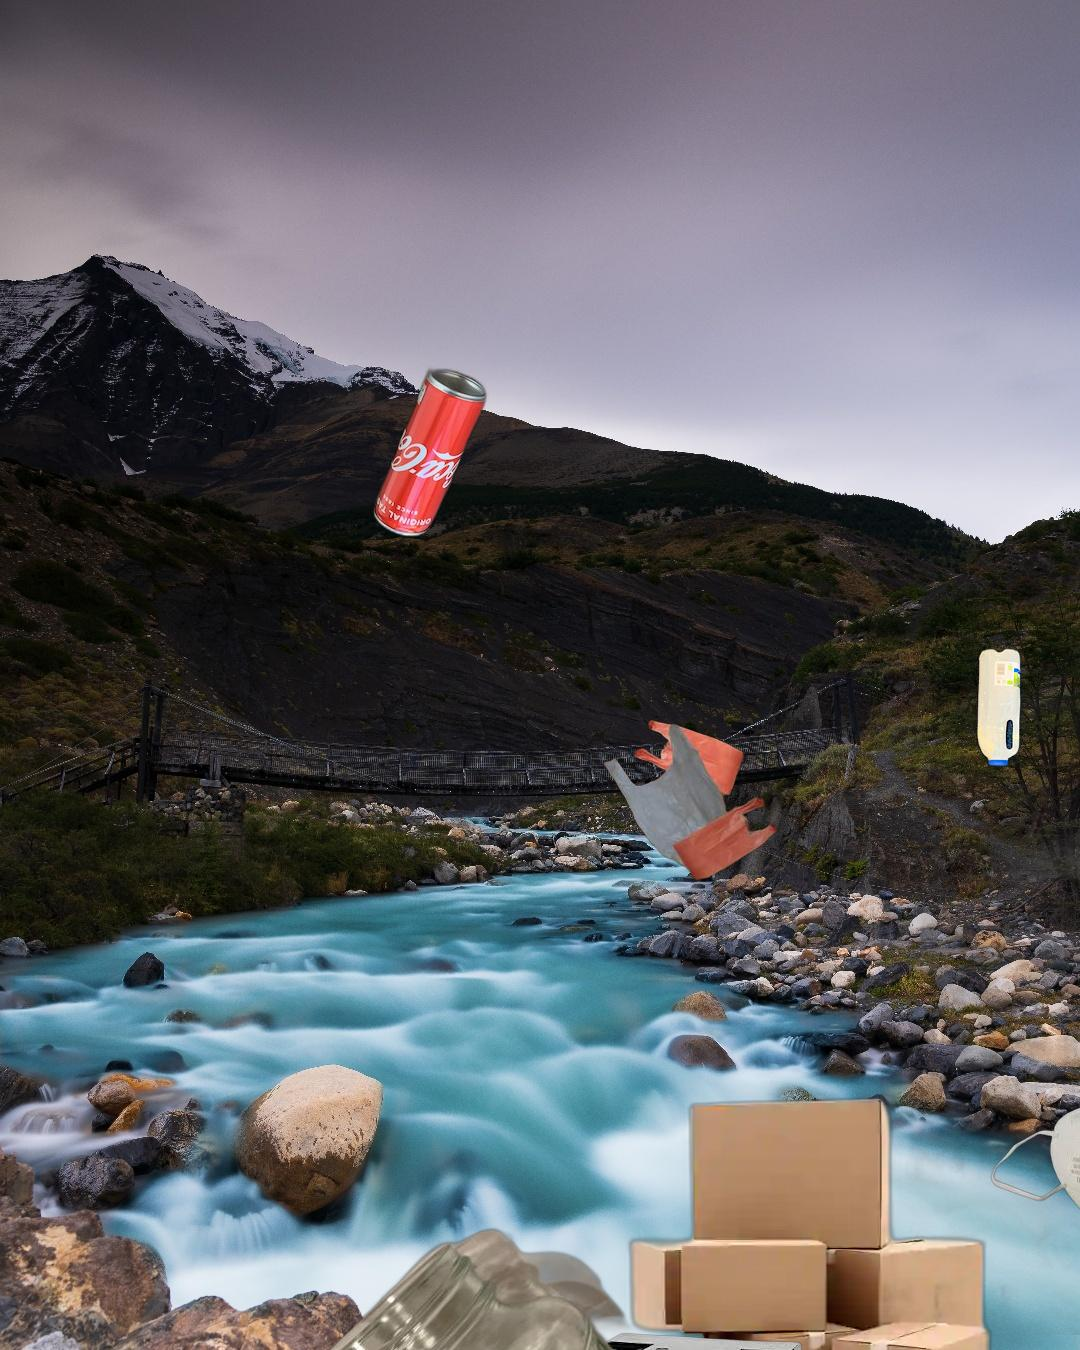battery: (850, 615, 1080, 1335), (588, 1330, 806, 1350)
glass: (289, 1224, 734, 1350)
metal-cans: (369, 363, 492, 543)
plastic-bag: (601, 719, 779, 883)
plastic-bottles: (972, 642, 1027, 773)
trash: (989, 1088, 1080, 1241)
trashbox-cardboard: (546, 1092, 1000, 1350)
